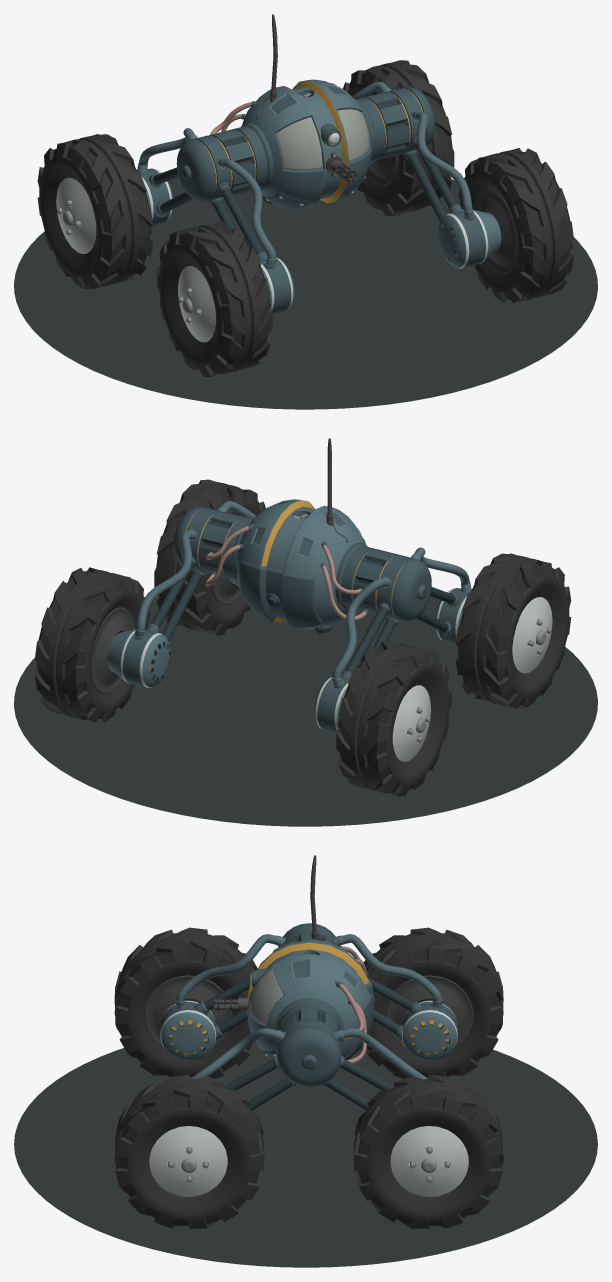
Rendered from planetoid2.fbx.
The picture shows the model from 3 angles, top to bottom: view 1: azimuth 30°, elevation 25°; view 2: azimuth 150°, elevation 25°; view 3: azimuth 270°, elevation 25°; orthographic projection.
Parts seen in each view (by area): view 1: polySurface39, pCylinder116; view 2: polySurface39, pCylinder116; view 3: polySurface39, pCylinder116.
Boxes of the visible parts, left/top/right/bottom form: polySurface39: left=37, top=14, right=573, bottom=376; pCylinder116: left=14, top=177, right=597, bottom=409; polySurface39: left=35, top=438, right=571, bottom=796; pCylinder116: left=14, top=596, right=597, bottom=826; polySurface39: left=114, top=855, right=503, bottom=1228; pCylinder116: left=14, top=1042, right=597, bottom=1267.
Size of the model in its own units: 12.4 by 12.4 by 6.48.
